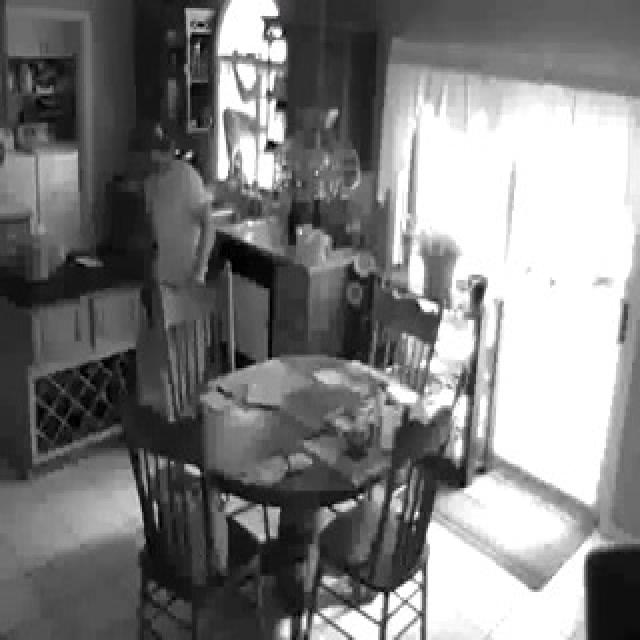thief: (126, 114, 202, 267)
